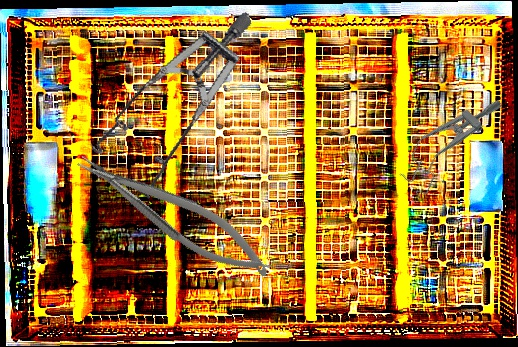Needle Holder: (71, 135, 279, 293)
Speculum: (66, 9, 293, 213), (390, 81, 509, 200)
